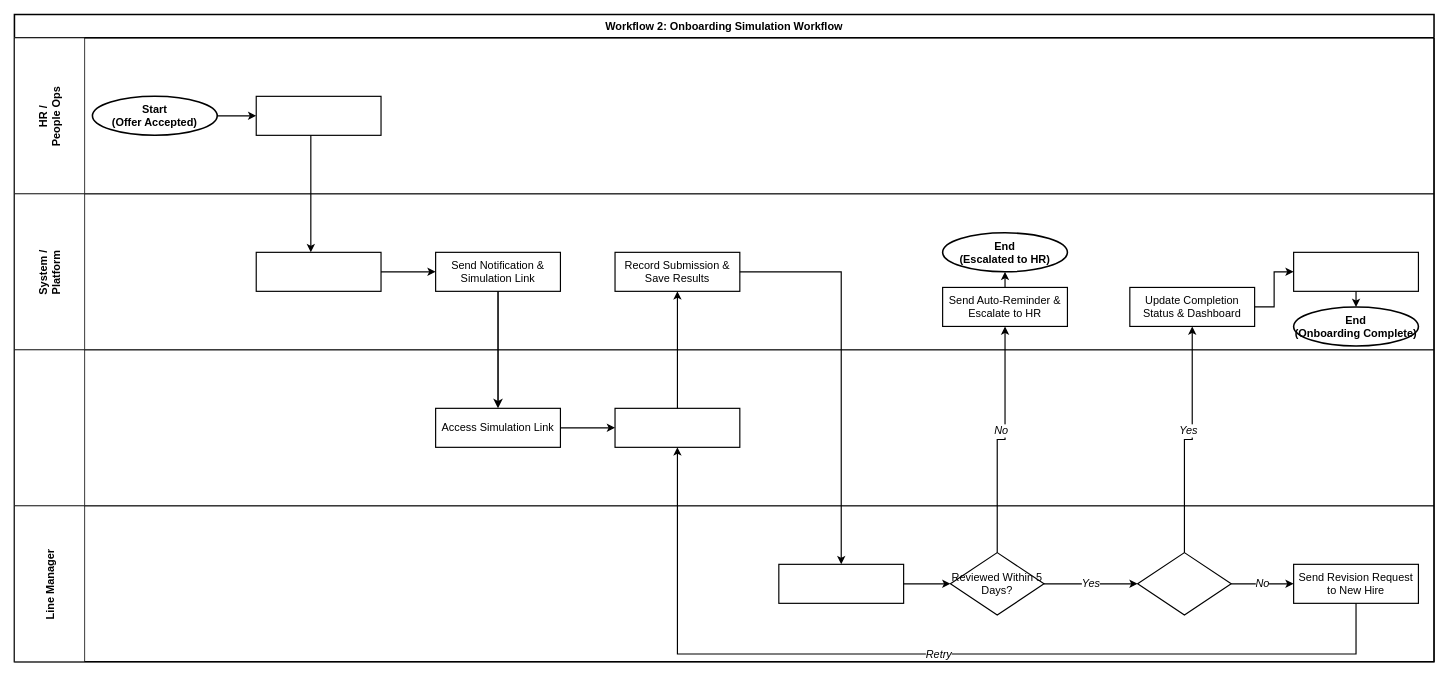
Some shapes in this 1448 by 675 pixel diagram are drawn without their labels. The shapes that lost their labels are listed below. From the top down, each one's box as (x1, y1, x2, y2) in pixels, then its label:
(255, 95, 381, 136): Create Onboarding Profile for New Hire
(255, 251, 381, 292): Auto-Assign Role-Specific Onboarding Simulations
(1293, 251, 1419, 292): Send Completion Certificate
(614, 407, 740, 448): Complete Micro-Simulation
(14, 349, 1434, 506): New Hire
(778, 563, 904, 604): Review Simulation Output & Evaluate
(1137, 552, 1231, 615): Passed?
